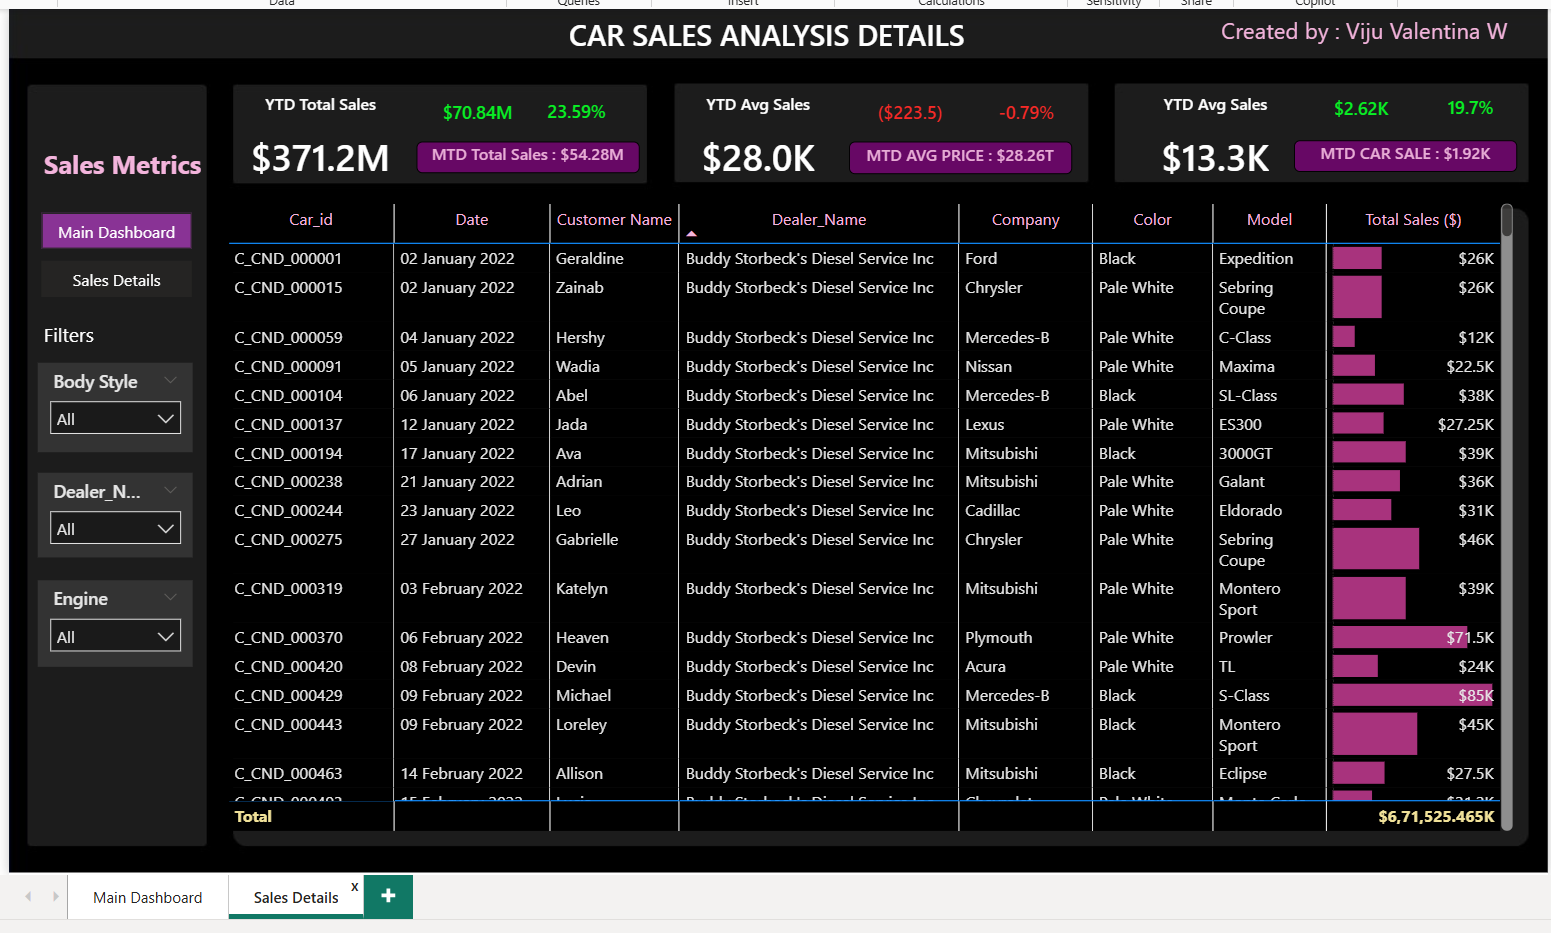

This screenshot's page, from the dashboard's own definition file:
{"tool":"powerbi","page":{"name":"Sales Details","canvas":[1280,720],"ordinal":1},"visuals":[{"type":"cardVisual","title":"YTD Total Sales","fields":{"Data":["CarData_Table.YTD Total Sales"]},"box":[170.1,70.1,177.3,85.6],"z":0},{"type":"card","fields":{"Values":["CarData_Table.MTD KPI"]},"box":[338.7,109.9,185.9,26.8],"z":1000},{"type":"card","fields":{"Values":["CarData_Table.Sales Difference"]},"box":[347.2,70,85.1,37],"z":2000},{"type":"card","fields":{"Values":["CarData_Table.YOY Sales Growth"]},"box":[433,67,77.3,42.3],"z":3000},{"type":"cardVisual","title":"YTD Avg Sales","fields":{"Data":["CarData_Table.YTD Avg Price"]},"box":[539.2,70.1,167,85.6],"z":4000},{"type":"card","fields":{"Values":["CarData_Table.Avg Price Diff"]},"box":[706.2,70.1,85.6,37.1],"z":5000},{"type":"card","fields":{"Values":["CarData_Table.YOY Avg Price Growth"]},"box":[803.1,70.1,85.6,37.1],"z":6000},{"type":"card","fields":{"Values":["CarData_Table.MTD AVG KPI"]},"box":[698.6,110,185.7,27.1],"z":7000},{"type":"cardVisual","title":"YTD Avg Sales","fields":{"Data":["CarData_Table.YTD Cars Sold"]},"box":[920,70,166.7,85.6],"z":8000},{"type":"card","fields":{"Values":["CarData_Table.Cars Sold diff"]},"box":[1086.7,66.7,74.4,36.7],"z":9000},{"type":"card","fields":{"Values":["CarData_Table.YOY Cars sold growth"]},"box":[1168.9,66.7,92.2,35.6],"z":10000},{"type":"card","fields":{"Values":["CarData_Table.MTD Car KPI"]},"box":[1068.8,109.4,185.9,26.6],"z":11000},{"type":"textbox","box":[376.1,0,507.5,41.8],"z":12000},{"type":"slicer","fields":{"Values":["CarData_Table.Body Style"]},"box":[24,294,129,74.5],"z":13000},{"type":"slicer","fields":{"Values":["CarData_Table.Dealer_Name"]},"box":[24,386,129,70.5],"z":14000},{"type":"slicer","fields":{"Values":["CarData_Table.Engine"]},"box":[24,475,129,72],"z":15000},{"type":"textbox","box":[23.9,254.5,110.2,38.6],"z":16000},{"type":"tableEx","fields":{"Values":["CarData_Table.Car_id","CarData_Table.Date","CarData_Table.Customer Name","CarData_Table.Dealer_Name","CarData_Table.Company","CarData_Table.Color","CarData_Table.Model","Sum(CarData_Table.Price ($))"]},"box":[177,156.8,1078.4,531.1],"z":17000},{"type":"textbox","box":[23.7,109.3,146.6,42.4],"z":18000},{"type":"pageNavigator","box":[27.1,169.5,125.4,71.2],"z":19000},{"type":"textbox","box":[1003.3,0,258.2,41.8],"z":20000}]}

Visuals, with their boxes on the page's 1280x720 design canvas (x1, y1, x2, y2). These are canvas units, not pixel positions in the 1551x933 screenshot, which may show the page scaled, cropped or inside an application window:
"YTD Total Sales" cardVisual: region(170, 70, 347, 156)
card - CarData_Table.MTD KPI: region(339, 110, 525, 137)
card - CarData_Table.Sales Difference: region(347, 70, 432, 107)
card - CarData_Table.YOY Sales Growth: region(433, 67, 510, 109)
"YTD Avg Sales" cardVisual: region(539, 70, 706, 156)
card - CarData_Table.Avg Price Diff: region(706, 70, 792, 107)
card - CarData_Table.YOY Avg Price Growth: region(803, 70, 889, 107)
card - CarData_Table.MTD AVG KPI: region(699, 110, 884, 137)
"YTD Avg Sales" cardVisual: region(920, 70, 1087, 156)
card - CarData_Table.Cars Sold diff: region(1087, 67, 1161, 103)
card - CarData_Table.YOY Cars sold growth: region(1169, 67, 1261, 102)
card - CarData_Table.MTD Car KPI: region(1069, 109, 1255, 136)
textbox: region(376, 0, 884, 42)
slicer - CarData_Table.Body Style: region(24, 294, 153, 368)
slicer - CarData_Table.Dealer_Name: region(24, 386, 153, 456)
slicer - CarData_Table.Engine: region(24, 475, 153, 547)
textbox: region(24, 254, 134, 293)
tableEx - CarData_Table.Car_id x CarData_Table.Date: region(177, 157, 1255, 688)
textbox: region(24, 109, 170, 152)
pageNavigator: region(27, 170, 152, 241)
textbox: region(1003, 0, 1262, 42)
